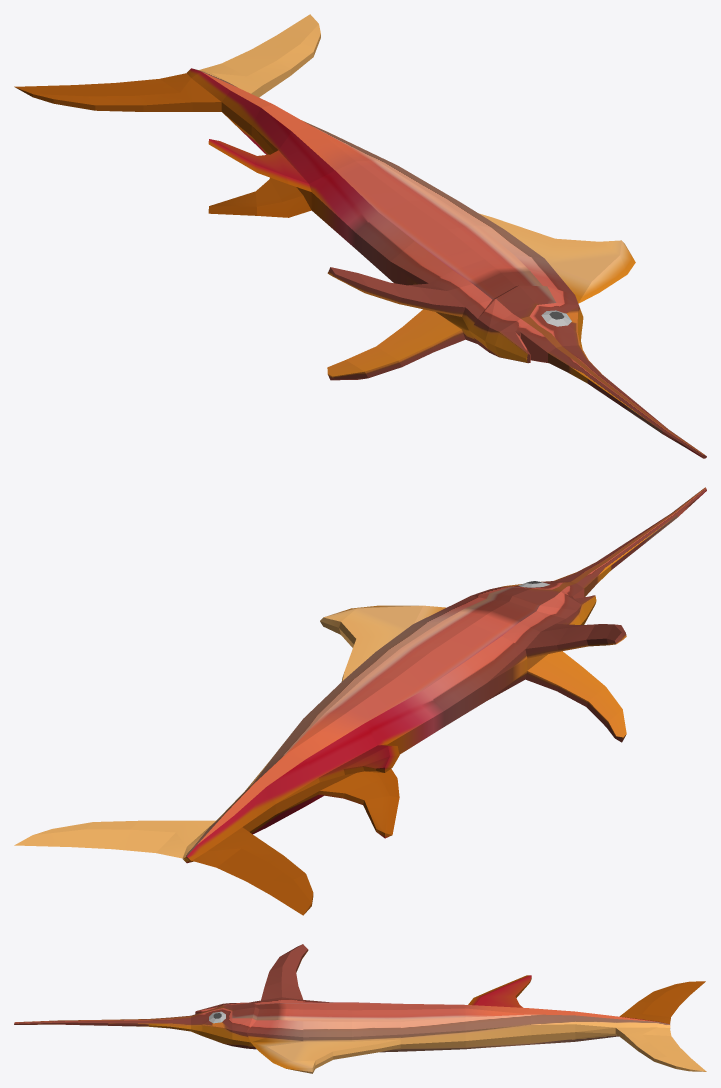
File: fish_15.FBX
3 views of the same model, one above another, from view 1: azimuth 30°, elevation 25°; view 2: azimuth 150°, elevation 25°; view 3: azimuth 270°, elevation 25° (orthographic). The views are drawn at different scales.
Visible parts, largest first — view 1: fish_15; view 2: fish_15; view 3: fish_15.
Part boxes in pixels (box(x1,y1,x2,y2)): fish_15: box(14, 14, 706, 458); fish_15: box(14, 487, 706, 915); fish_15: box(14, 944, 706, 1073).
Bounding box in the file's own units: 41.89 × 14.88 × 132.
